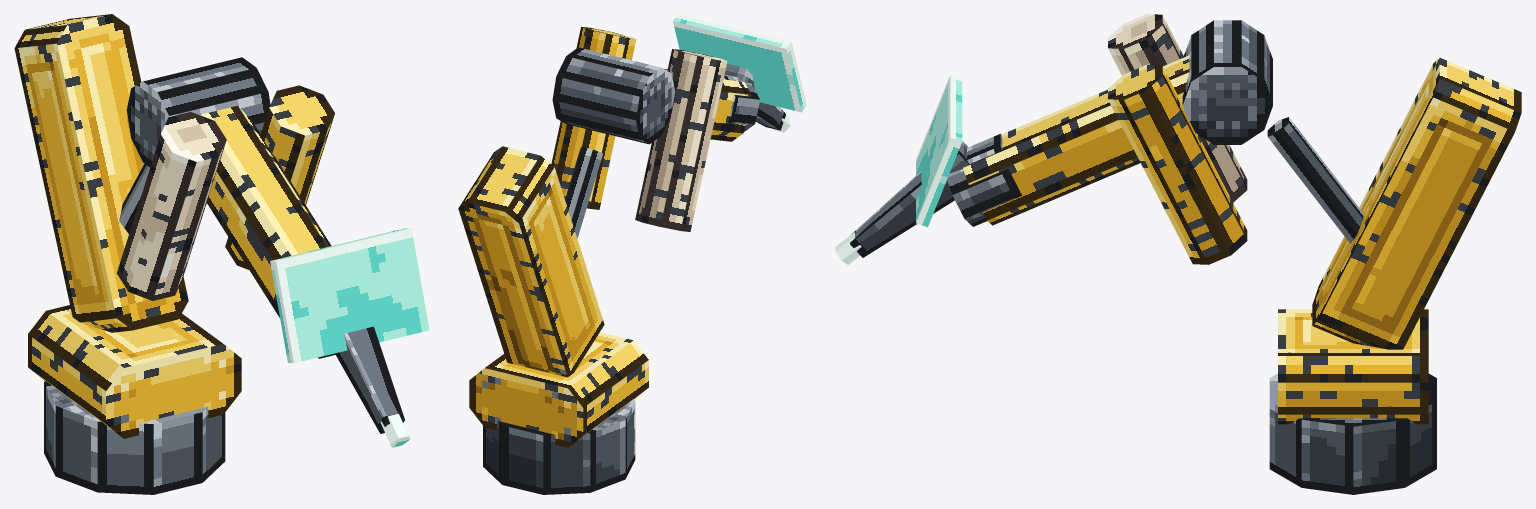
Rendered from cy_welder.glb.
3 views of the same model, side by side, from view 1: azimuth 30°, elevation 25°; view 2: azimuth 150°, elevation 25°; view 3: azimuth 270°, elevation 25° (orthographic). The views are drawn at different scales.
Parts seen in each view (by area): view 1: boom, base, shield, turret, bottleB, fore, elbow, bottleA, torch, piston, tip; view 2: boom, base, bottleB, turret, elbow, shield, bottleA, piston, fore, wrist, torch; view 3: boom, base, bottleA, turret, fore, elbow, bottleB, shield, piston, torch, wrist.
Boxes of the visible parts, left/top/right/bottom form: boom: left=14, top=14, right=188, bottom=332; base: left=28, top=305, right=241, bottom=438; shield: left=270, top=228, right=429, bottom=363; turret: left=44, top=381, right=225, bottom=494; bottleB: left=116, top=112, right=226, bottom=300; fore: left=201, top=105, right=331, bottom=317; elbow: left=126, top=57, right=270, bottom=167; bottleA: left=225, top=85, right=334, bottom=269; torch: left=335, top=326, right=404, bottom=433; piston: left=119, top=163, right=149, bottom=233; tip: left=380, top=413, right=410, bottom=447; boom: left=458, top=146, right=604, bottom=377; base: left=469, top=332, right=648, bottom=447; bottleB: left=635, top=49, right=727, bottom=231; turret: left=483, top=399, right=635, bottom=494; elbow: left=552, top=47, right=675, bottom=144; shield: left=673, top=14, right=806, bottom=112; bottleA: left=551, top=26, right=636, bottom=209; piston: left=565, top=146, right=602, bottom=238; fore: left=664, top=69, right=751, bottom=141; wrist: left=723, top=74, right=760, bottom=131; torch: left=725, top=64, right=785, bottom=130; boom: left=1312, top=57, right=1521, bottom=349; base: left=1278, top=309, right=1428, bottom=424; bottleA: left=1108, top=65, right=1247, bottom=264; turret: left=1269, top=373, right=1436, bottom=494; fore: left=963, top=55, right=1201, bottom=225; elbow: left=1182, top=20, right=1272, bottom=144; bottleB: left=1108, top=14, right=1247, bottom=202; shield: left=916, top=74, right=962, bottom=227; piston: left=1267, top=117, right=1363, bottom=243; torch: left=850, top=141, right=969, bottom=257; wrist: left=947, top=134, right=1021, bottom=226.
Size of the model in its own units: 7.2 by 18.21 by 27.34.
1 material, 1 textured.
